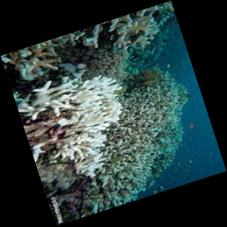bleached_corals: (14, 64, 144, 201)
